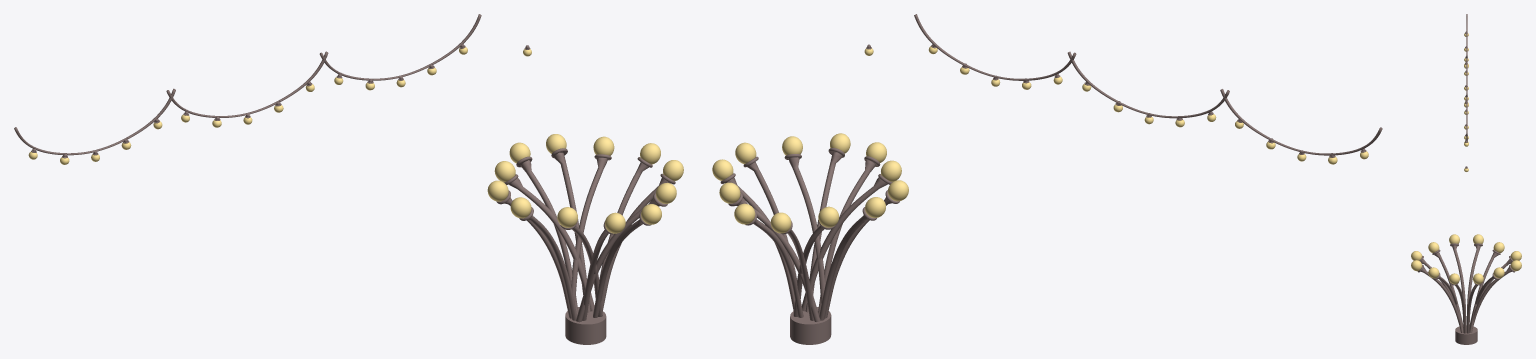
The model's file is firefly lights 1.fbx.
The picture shows the model from 3 angles, left to right: view 1: azimuth 30°, elevation 25°; view 2: azimuth 150°, elevation 25°; view 3: azimuth 270°, elevation 25°; orthographic projection. The views are drawn at different scales.
Visible parts, largest first — view 1: NurbsPath.002, NurbsPath.001, NurbsPath, Circle, Torus, Torus.002, Torus.001; view 2: NurbsPath.002, NurbsPath.001, NurbsPath, Circle, Torus.002, Torus, Torus.001; view 3: NurbsPath, NurbsPath.002, NurbsPath.001, Circle, Torus.002, Torus, Torus.001.
Boxes of the visible parts, bbox=[...] form: NurbsPath.002: bbox=[494, 136, 676, 322]; NurbsPath.001: bbox=[509, 134, 661, 320]; NurbsPath: bbox=[487, 143, 683, 320]; Circle: bbox=[565, 307, 606, 344]; Torus: bbox=[319, 14, 481, 90]; Torus.002: bbox=[14, 88, 175, 164]; Torus.001: bbox=[166, 51, 328, 127]; NurbsPath.002: bbox=[719, 136, 901, 321]; NurbsPath.001: bbox=[734, 133, 886, 320]; NurbsPath: bbox=[712, 142, 908, 320]; Circle: bbox=[790, 307, 831, 344]; Torus.002: bbox=[1220, 89, 1382, 164]; Torus: bbox=[914, 14, 1076, 89]; Torus.001: bbox=[1067, 51, 1229, 127]; NurbsPath: bbox=[1449, 234, 1483, 333]; NurbsPath.002: bbox=[1428, 242, 1504, 332]; NurbsPath.001: bbox=[1411, 251, 1521, 328]; Circle: bbox=[1455, 325, 1477, 344]; Torus.002: bbox=[1464, 14, 1468, 68]; Torus: bbox=[1464, 92, 1468, 146]; Torus.001: bbox=[1464, 53, 1468, 107].
Size of the model in its own units: 2131 by 1078 by 596.
